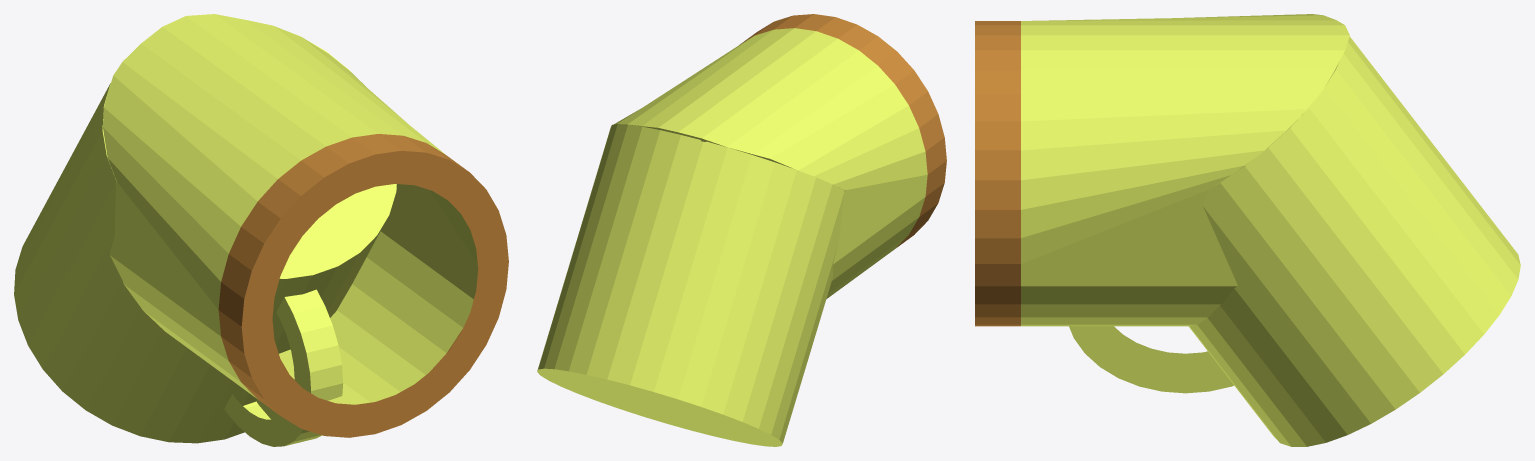
The model's file is ToyGun.glb.
The picture shows the model from 3 angles, left to right: view 1: azimuth 30°, elevation 25°; view 2: azimuth 150°, elevation 25°; view 3: azimuth 270°, elevation 25°; orthographic projection. The views are drawn at different scales.
Parts seen in each view (by area): view 1: Cylinder.003, Cylinder.004, Cylinder.005; view 2: Cylinder.004, Cylinder.003; view 3: Cylinder.003, Cylinder.004, Cylinder.005.
Boxes of the visible parts, <box> form: Cylinder.003: <box>103,14,508,437</box>; Cylinder.004: <box>14,41,396,443</box>; Cylinder.005: <box>224,289,343,446</box>; Cylinder.004: <box>537,124,844,446</box>; Cylinder.003: <box>614,14,946,298</box>; Cylinder.003: <box>975,14,1349,326</box>; Cylinder.004: <box>1189,36,1520,446</box>; Cylinder.005: <box>1069,326,1233,393</box>.
Size of the model in its own units: 2.01 by 2.82 by 3.57.
